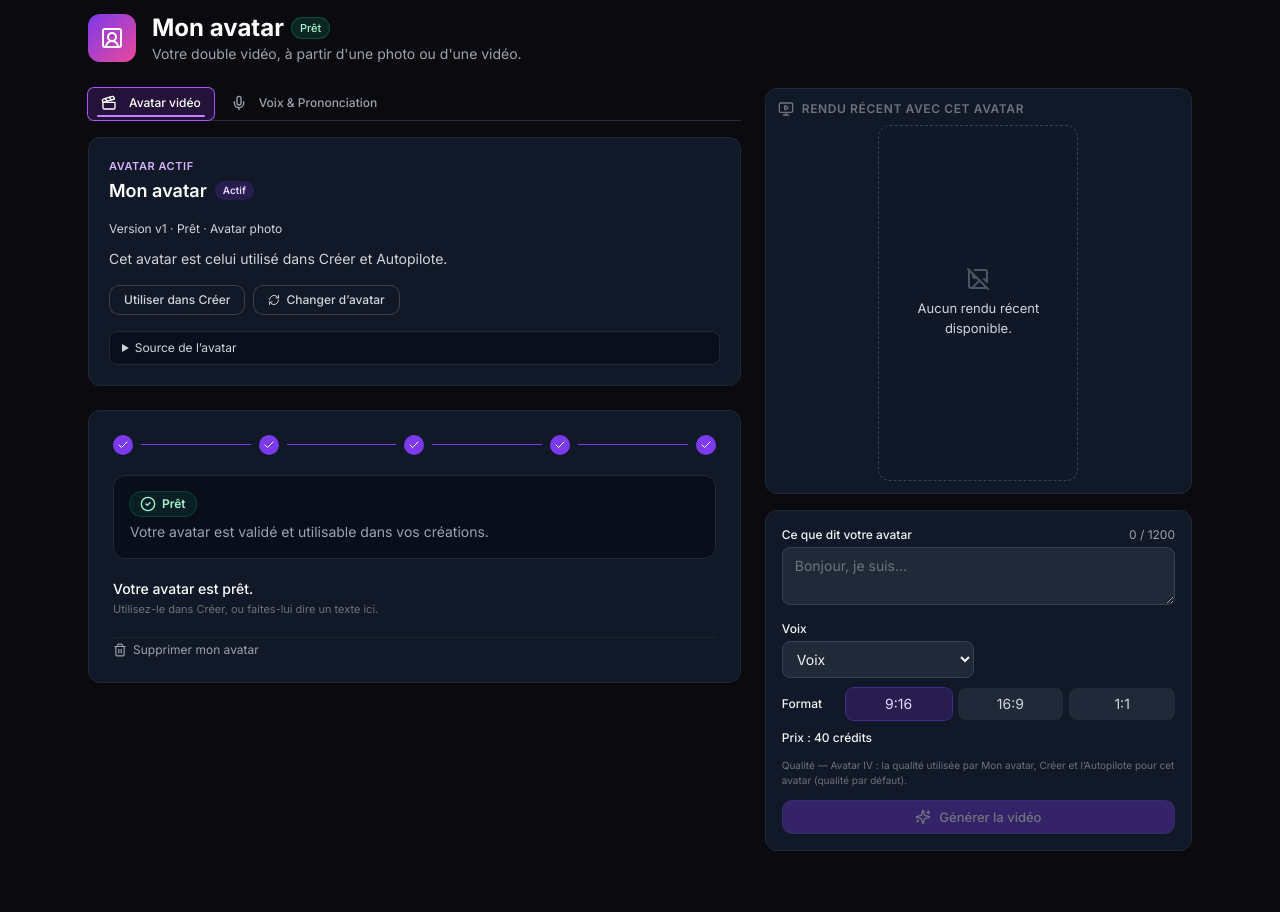
Test: C. La zone d’aperçu — deux colonnes, UNE zone, quatre états › ⚠️ validé : la zone ne montre JAMAIS la source comme l’avatar — sans rendu récent elle le dit ; la vidéo HeyGen générée (« Votre vidéo ») arrive dans la MÊME zo
Expected: the navigation bar is shown, [113, 434, 716, 454]
Expected: the element showing "Rendu récent avec cet avatar Aucun rendu récent disponible." is shown, [765, 88, 1192, 494]
In the text box with placeholder "Bonjour, je suis…": (978, 576) [782, 546, 1175, 604], type "Bonjour, je suis votre avatar."
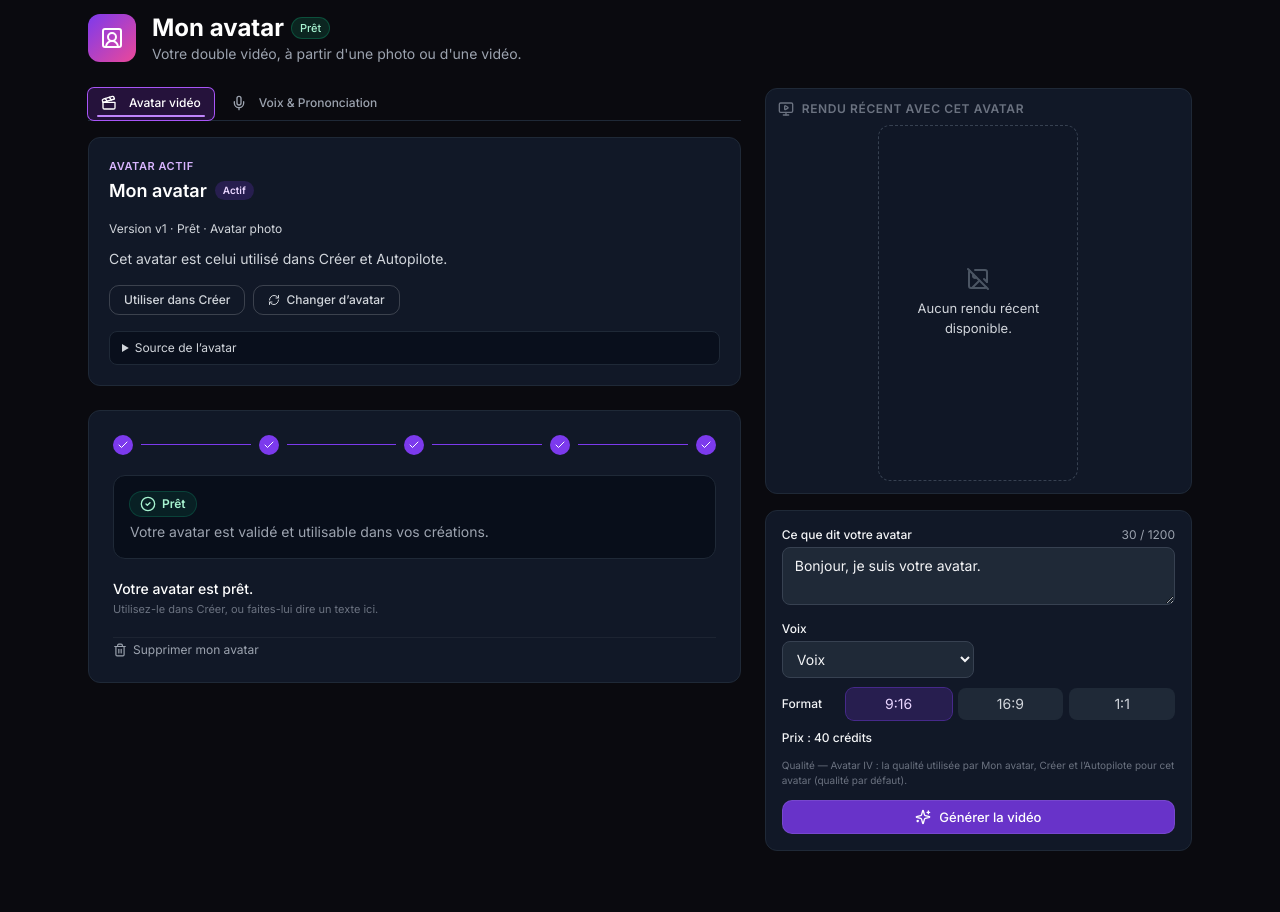
Click the button "Générer la vidéo": (978, 817) [782, 800, 1175, 834]
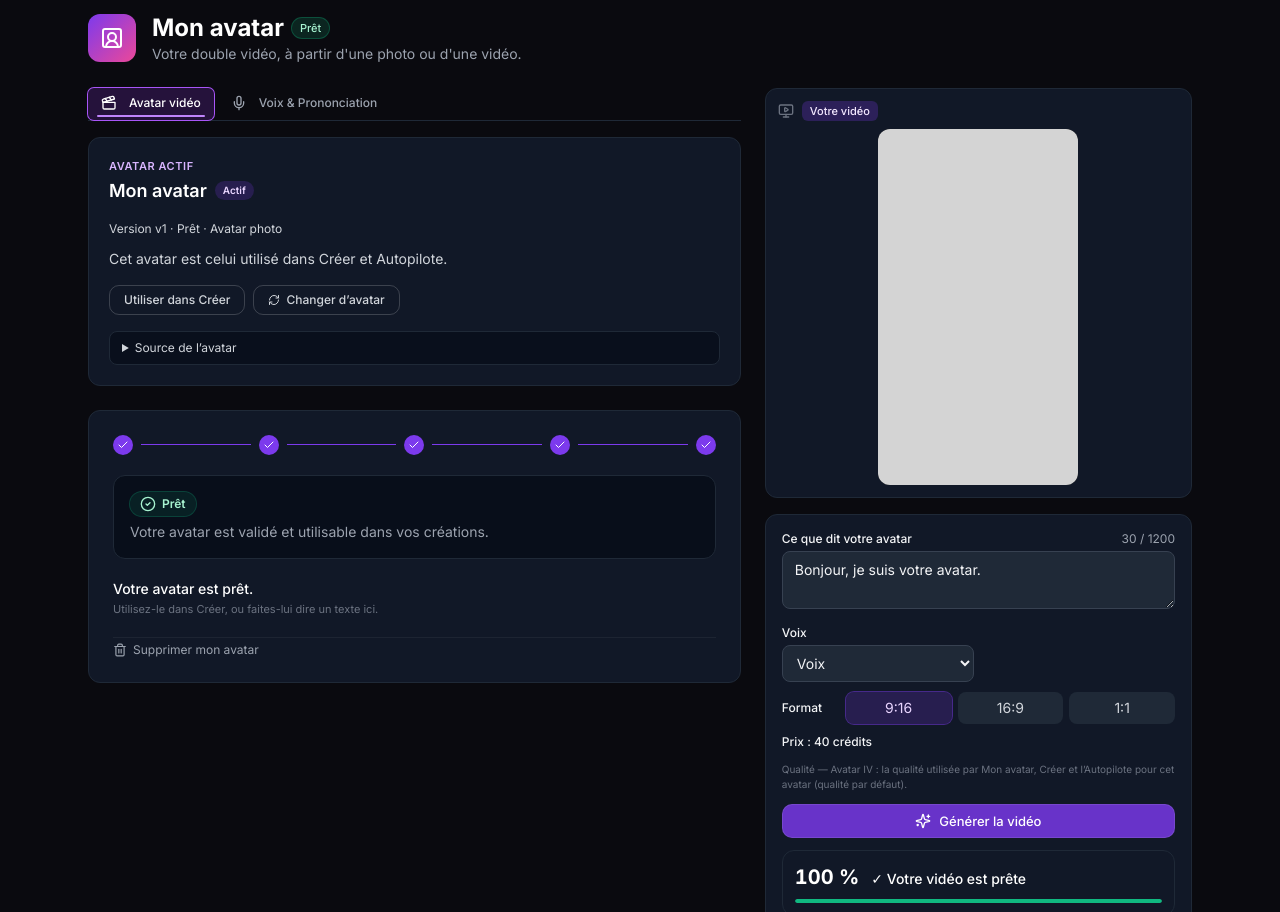
Result: the element showing "Votre vidéo" is shown at [765, 88, 1192, 498]
